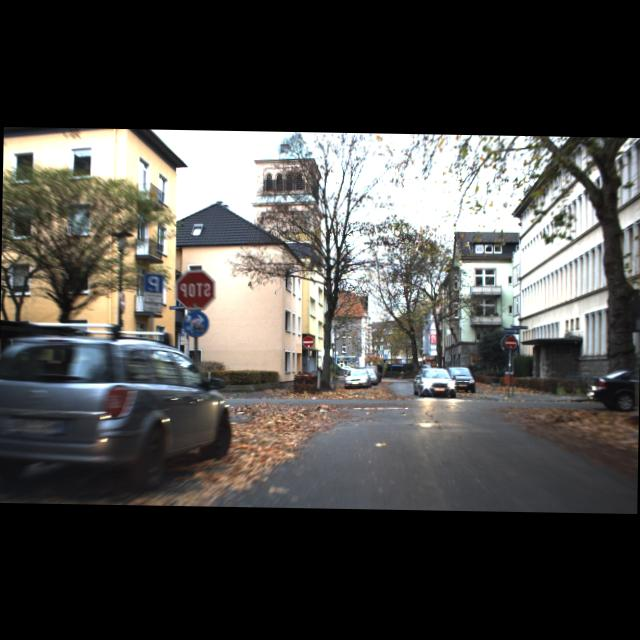mandatory: (182, 310, 210, 338)
other: (176, 270, 216, 310), (504, 336, 516, 349), (303, 337, 314, 348)
